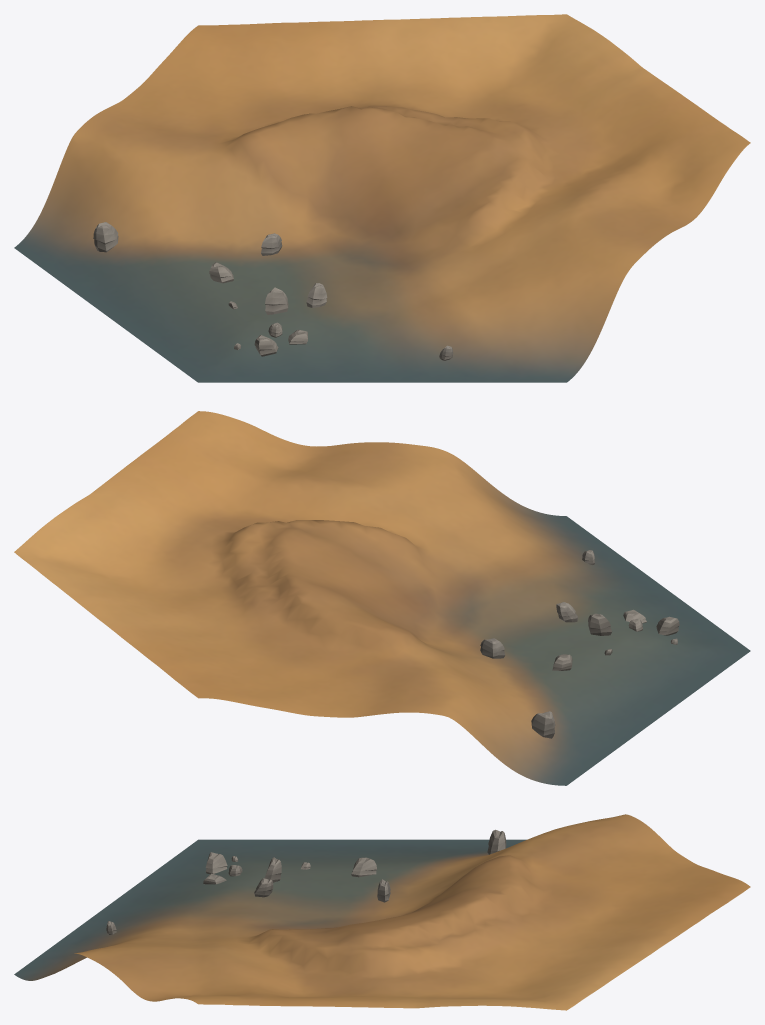
File: costa_-05_+05.glb
The picture shows the model from 3 angles, top to bottom: view 1: azimuth 30°, elevation 25°; view 2: azimuth 150°, elevation 25°; view 3: azimuth 270°, elevation 25°; orthographic projection.
Visible parts, largest first — view 1: terrain, Formações costeiras; view 2: terrain, Formações costeiras; view 3: terrain, Formações costeiras.
Part boxes in pixels (bbox=[...]): terrain: bbox=[14, 14, 750, 382]; Formações costeiras: bbox=[93, 222, 453, 360]; terrain: bbox=[14, 411, 750, 785]; Formações costeiras: bbox=[480, 550, 679, 738]; terrain: bbox=[14, 814, 750, 1010]; Formações costeiras: bbox=[106, 829, 506, 934].
Bounding box in the file's own units: 4330 × 786 × 5000.
1 material, 1 textured.
